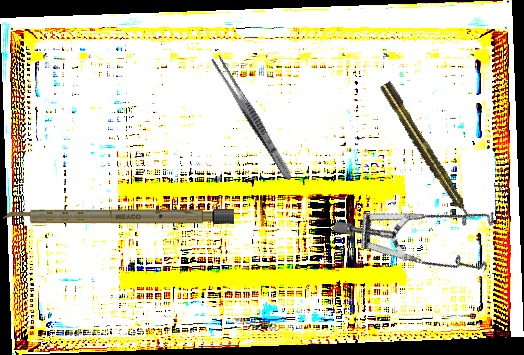Dressing Forceps: (209, 54, 296, 183)
Handpiece: (378, 80, 477, 225)
Scalpel Handle: (3, 209, 234, 224)
Speculum: (331, 139, 517, 321)
